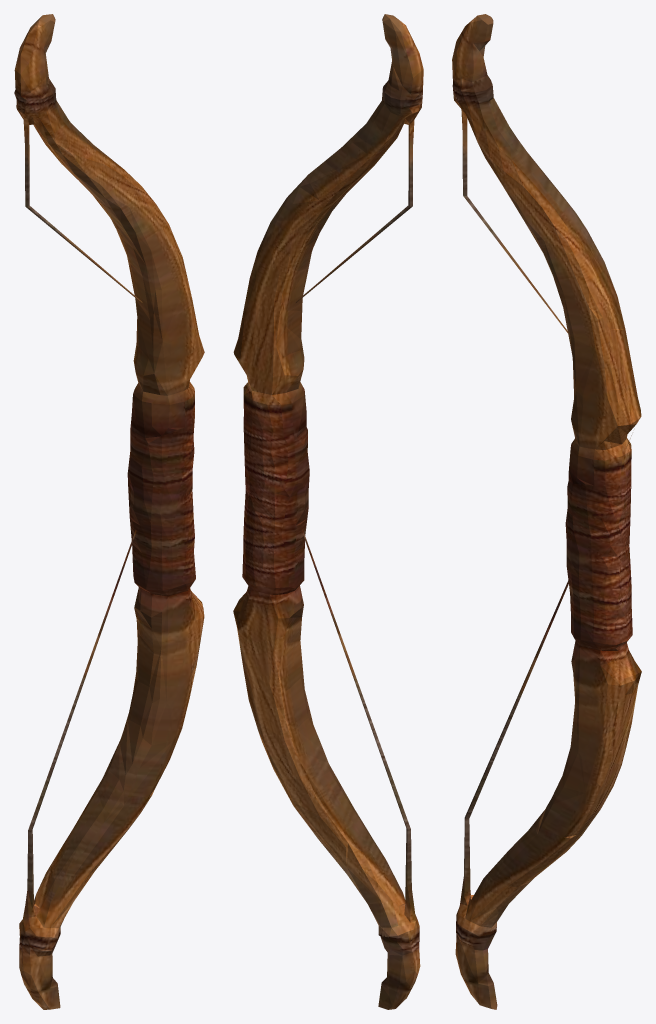
Rendered from bow.glb.
The picture shows the model from 3 angles, left to right: view 1: azimuth 30°, elevation 25°; view 2: azimuth 150°, elevation 25°; view 3: azimuth 330°, elevation 25°; orthographic projection.
Parts seen in each view (by area): view 1: geometry_0; view 2: geometry_0; view 3: geometry_0.
Boxes of the visible parts, <box> form: geometry_0: <box>14,14,204,1009</box>; geometry_0: <box>233,14,423,1009</box>; geometry_0: <box>452,14,641,1009</box>.
Bounding box in the file's own units: 0.2914 × 1.5 × 0.0819.
1 material, 1 textured.
